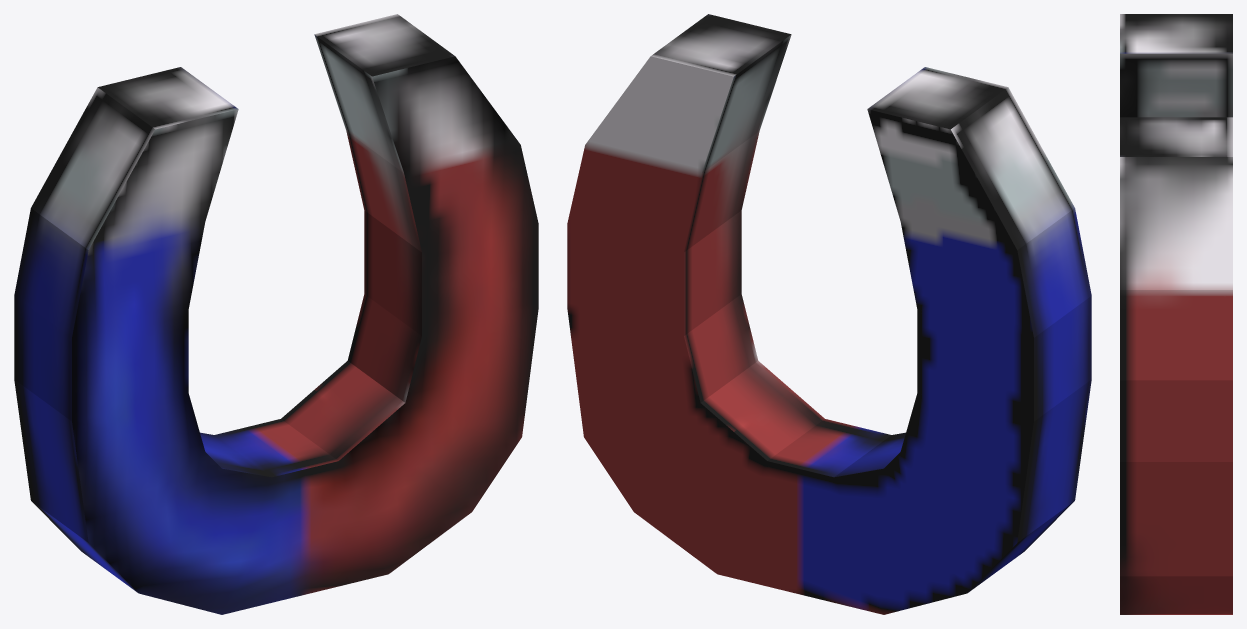
The model's file is magnet 1.fbx.
The picture shows the model from 3 angles, left to right: view 1: azimuth 30°, elevation 25°; view 2: azimuth 150°, elevation 25°; view 3: azimuth 270°, elevation 25°; orthographic projection. The views are drawn at different scales.
Parts seen in each view (by area): view 1: Cube; view 2: Cube; view 3: Cube.
Part boxes in pixels (bbox=[...]): Cube: bbox=[14, 14, 538, 614]; Cube: bbox=[567, 14, 1091, 614]; Cube: bbox=[1120, 14, 1232, 614].
Size of the model in its own units: 280 by 288 by 60.
Materials: 1 (1 with a texture image).
